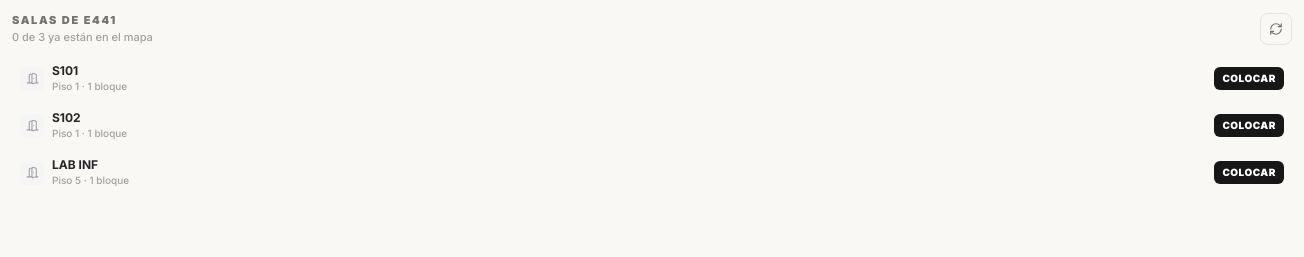
Test: RoomImportPanel › al elegir una sala pide el clic en el mapa y activa la herramienta
Click the button "Colocar" in the row of "S101" at (1249, 78), box [1214,67,1284,90]
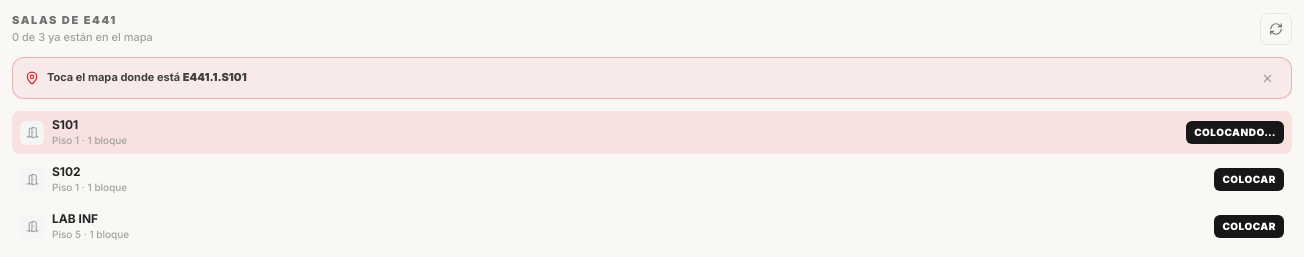
Check: the text "E441.1.S101" is shown, box [183,70,247,84]
Check: the button named "Cancelar" is shown, box [1255,66,1279,90]
